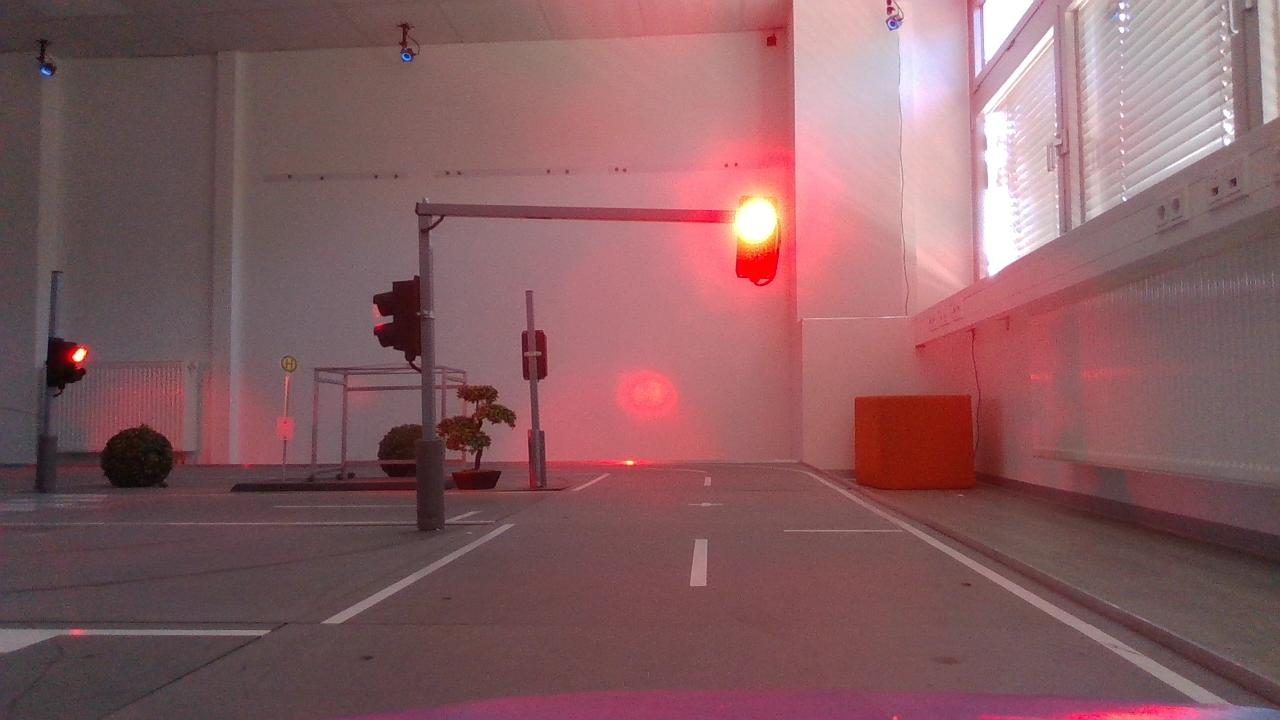traffic_light_red: (731, 188, 791, 296)
